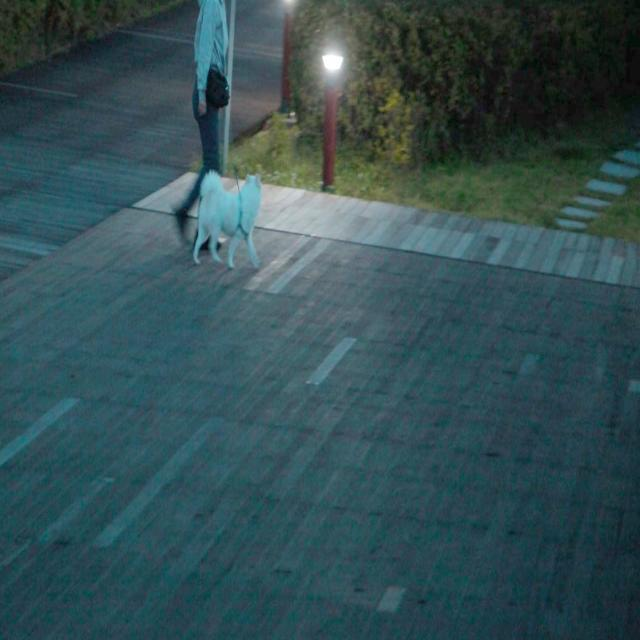Leashed_Dog: (192, 107, 262, 270)
